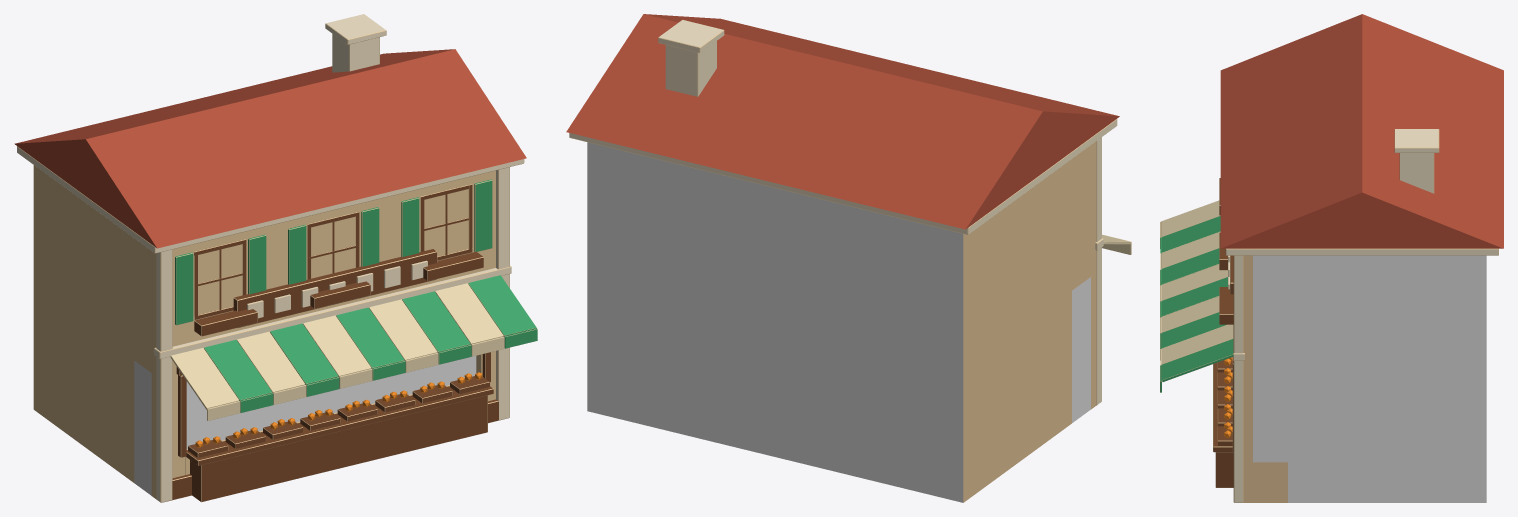
Rendered from bld_shopfront_c.glb.
The picture shows the model from 3 angles, left to right: view 1: azimuth 30°, elevation 25°; view 2: azimuth 150°, elevation 25°; view 3: azimuth 270°, elevation 25°; orthographic projection. The views are drawn at different scales.
Visible parts, largest first — view 1: bld_shopfront_c, COL_bld_shopfront_c_1; view 2: COL_bld_shopfront_c_1, bld_shopfront_c; view 3: bld_shopfront_c, COL_bld_shopfront_c_1.
Boxes of the visible parts, left/top/right/bottom form: bld_shopfront_c: left=14, top=14, right=537, bottom=502; COL_bld_shopfront_c_1: left=134, top=356, right=476, bottom=495; COL_bld_shopfront_c_1: left=587, top=142, right=1090, bottom=502; bld_shopfront_c: left=566, top=14, right=1131, bottom=502; bld_shopfront_c: left=1160, top=14, right=1503, bottom=502; COL_bld_shopfront_c_1: left=1253, top=255, right=1486, bottom=502.
Size of the model in its own units: 8.5 by 7.44 by 6.92.
